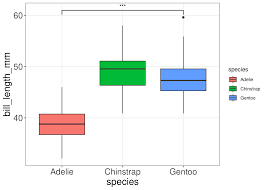S1_AxisNotZero: (3, 2, 265, 188)
